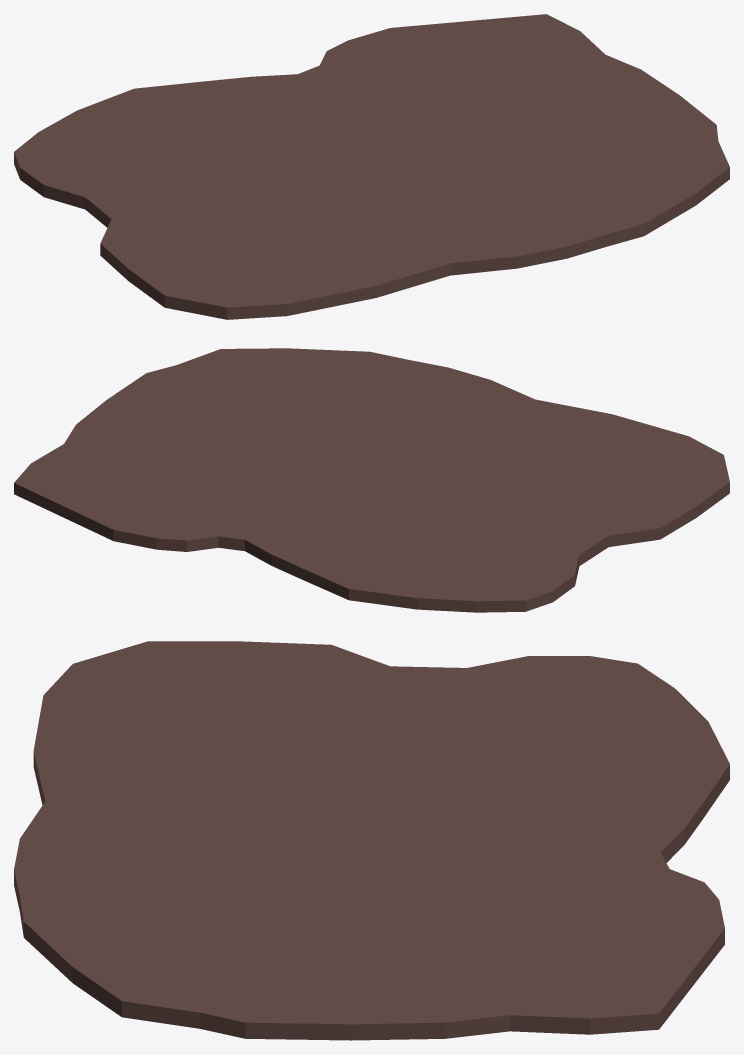
File: Sand 9.FBX
The picture shows the model from 3 angles, top to bottom: view 1: azimuth 30°, elevation 25°; view 2: azimuth 150°, elevation 25°; view 3: azimuth 270°, elevation 25°; orthographic projection. The views are drawn at different scales.
Visible parts, largest first — view 1: Plane001; view 2: Plane001; view 3: Plane001.
Part boxes in pixels (left/top/right/bottom): Plane001: left=14, top=14, right=729, bottom=319; Plane001: left=14, top=348, right=729, bottom=612; Plane001: left=14, top=641, right=729, bottom=1040.
Size of the model in its own units: 126 by 2.49 by 99.66.
